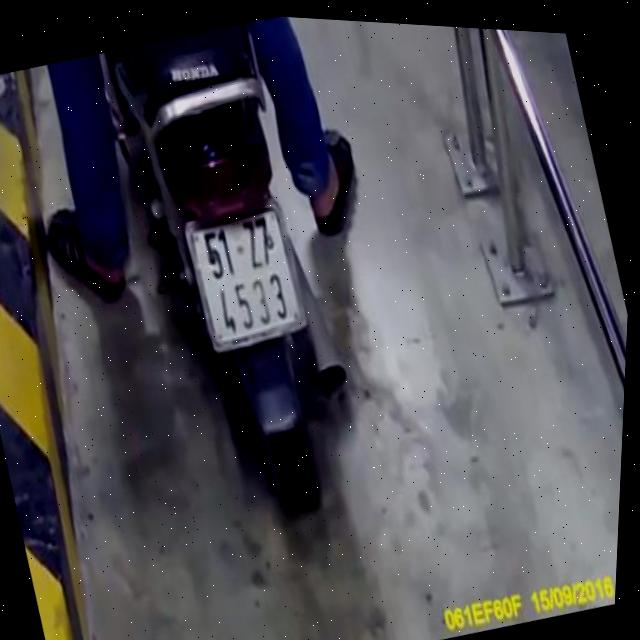motorcycle: (67, 5, 413, 557)
plate: (167, 187, 317, 363)
